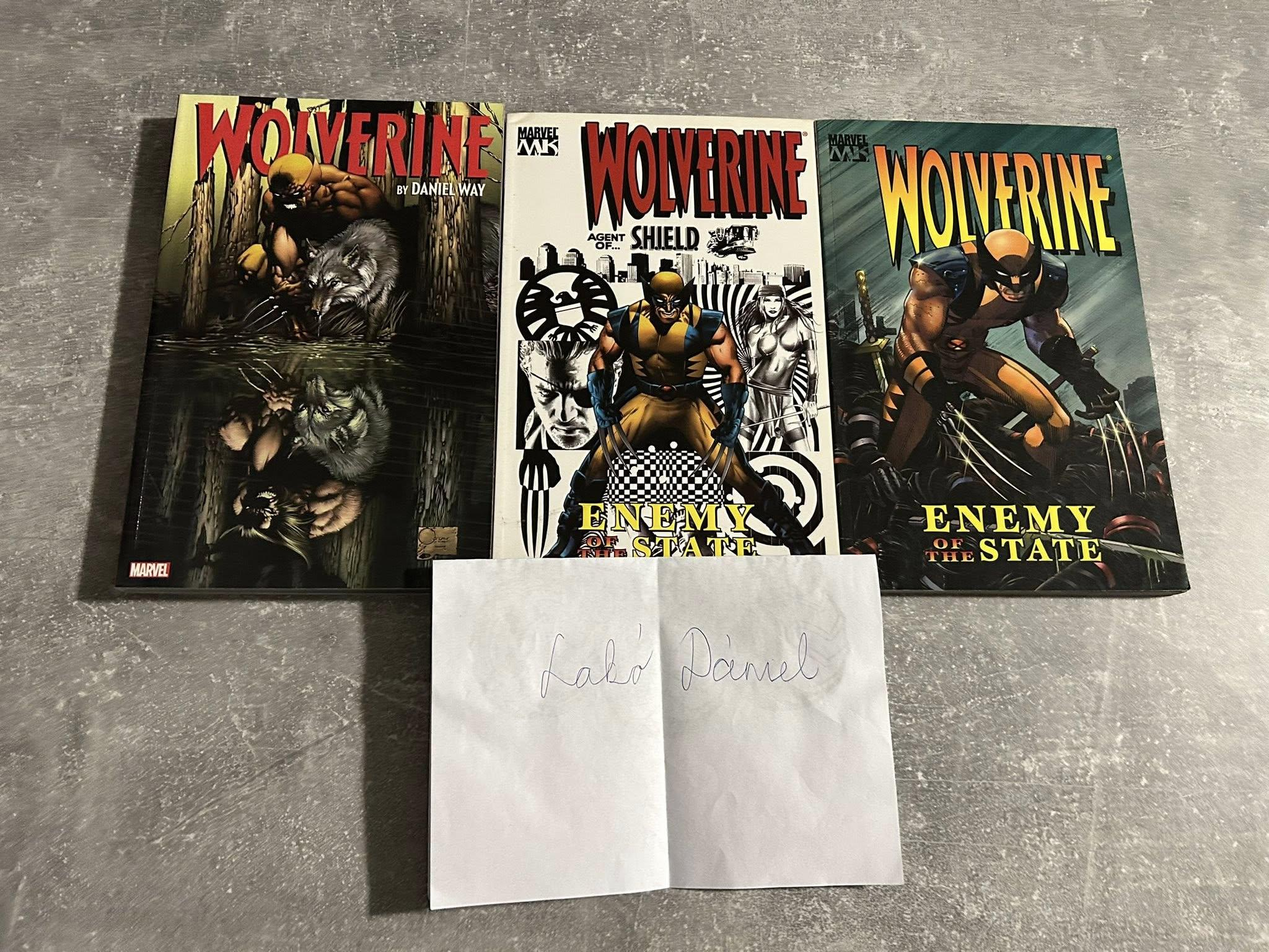comic: (117, 91, 504, 599), (816, 102, 1188, 609), (494, 113, 837, 557)
